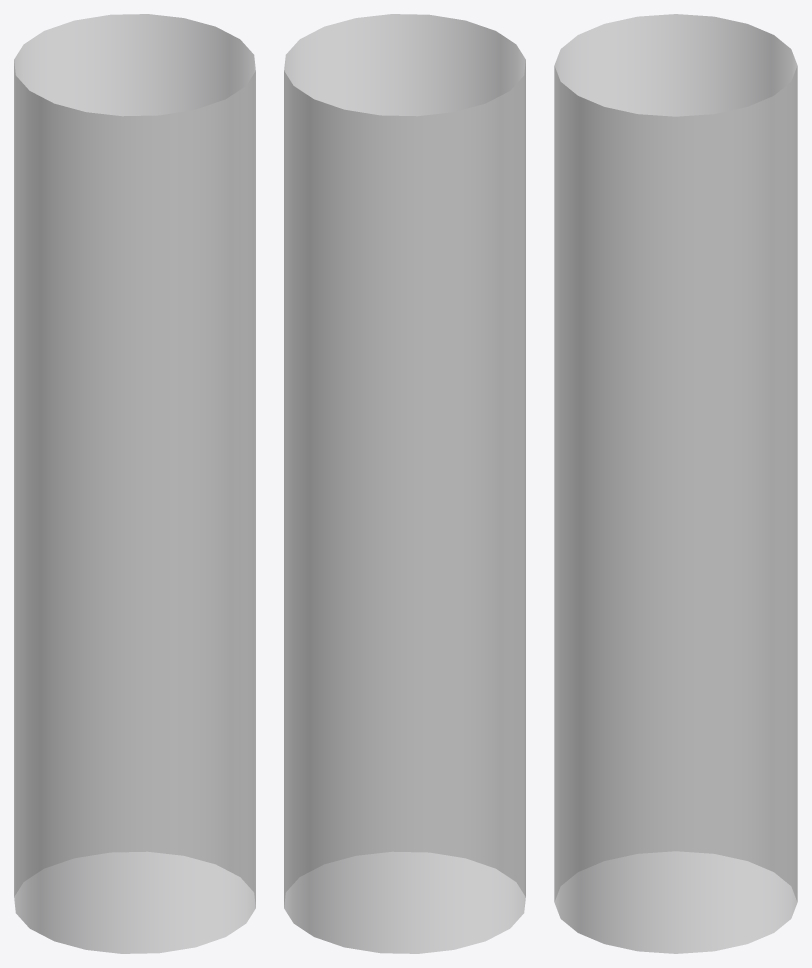
The model's file is G01_027_PipeA.fbx.
3 renders of one model, left to right at view 1: azimuth 30°, elevation 25°; view 2: azimuth 150°, elevation 25°; view 3: azimuth 270°, elevation 25°, orthographic.
Parts seen in each view (by area): view 1: 010_Pipe_Line_W; view 2: 010_Pipe_Line_W; view 3: 010_Pipe_Line_W.
Boxes of the visible parts, x1,y1,x2,y2 form: 010_Pipe_Line_W: (14, 14, 255, 953); 010_Pipe_Line_W: (284, 14, 525, 953); 010_Pipe_Line_W: (554, 14, 797, 953).
Size of the model in its own units: 50 by 190 by 50.
